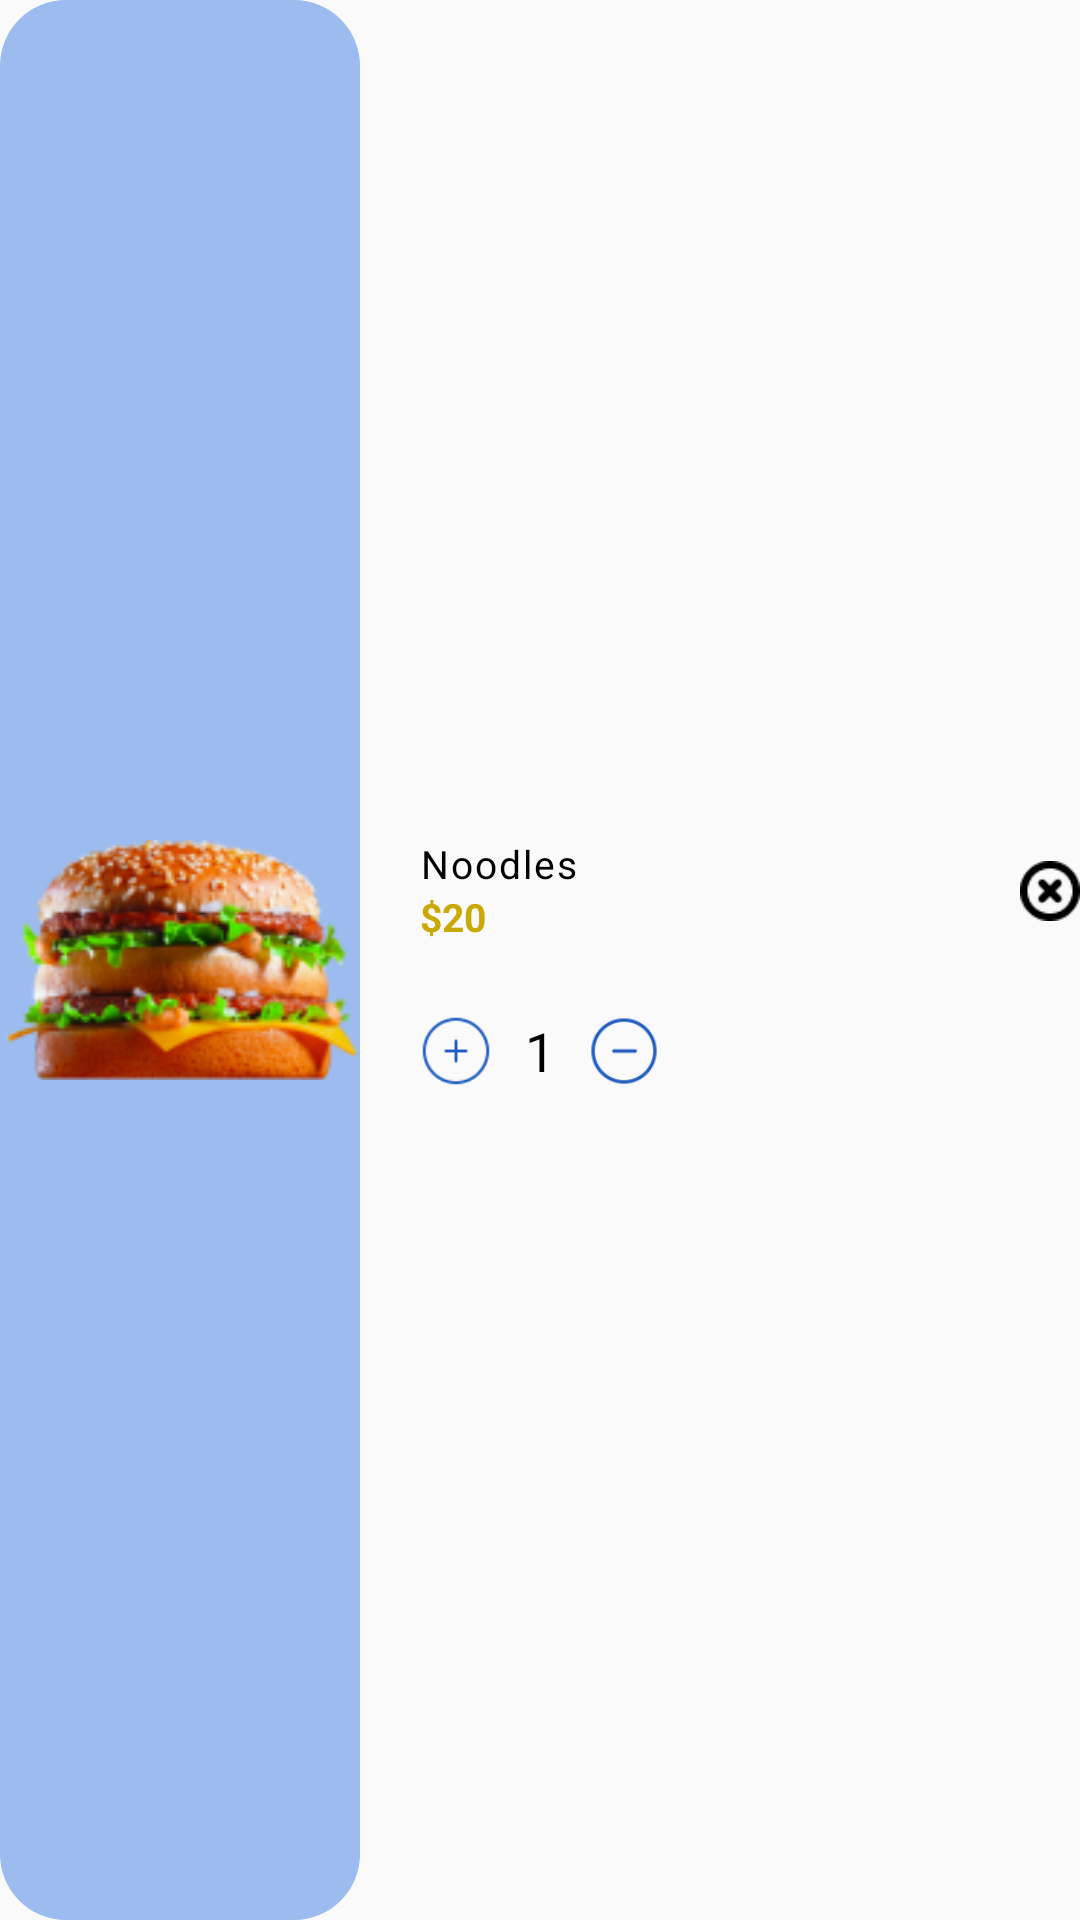

Icon click points for this 1080x1920 phone screenshot, format [x,y]:
add: [456,1051]
minus: [624,1051]
remove: [1050,891]
